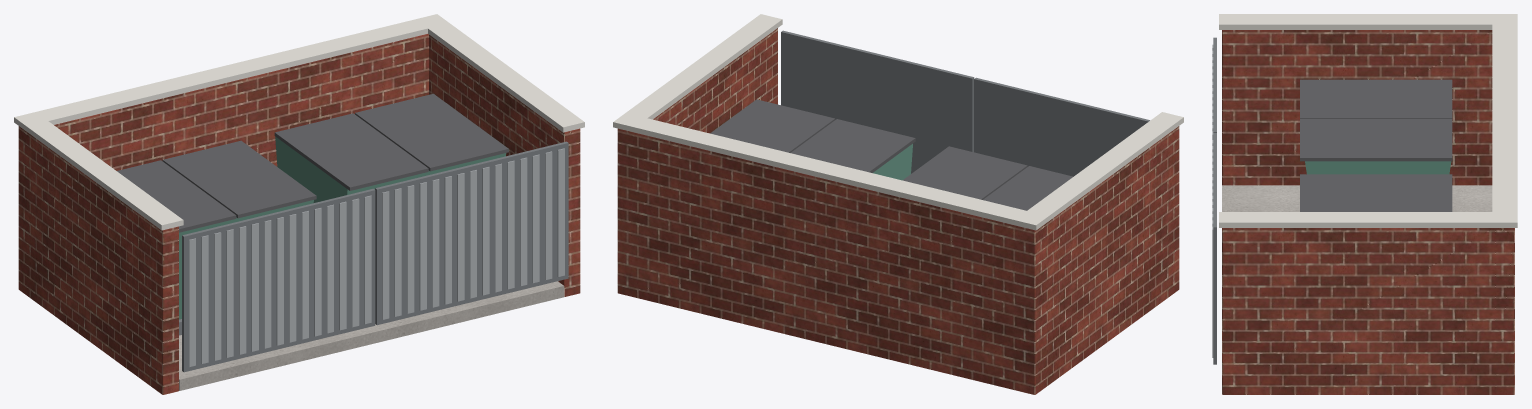
Rendered from dumpster_enc.glb.
3 renders of one model, left to right at view 1: azimuth 30°, elevation 25°; view 2: azimuth 150°, elevation 25°; view 3: azimuth 270°, elevation 25°, orthographic.
Visible parts, largest first — view 1: dumpster_enc_brick, dumpster_enc_steel, dumpster_enc_steel_d, dumpster_enc_dark, dumpster_enc_coping, dumpster_enc_concrete, dumpster_enc_dumpster; view 2: dumpster_enc_brick, dumpster_enc_steel_d, dumpster_enc_coping, dumpster_enc_dark, dumpster_enc_dumpster; view 3: dumpster_enc_brick, dumpster_enc_dark, dumpster_enc_coping, dumpster_enc_concrete, dumpster_enc_dumpster, dumpster_enc_steel_d, dumpster_enc_steel.
Part boxes in pixels (x1,y1,x2,y2): dumpster_enc_brick: [18, 34, 580, 394]; dumpster_enc_steel: [189, 148, 564, 366]; dumpster_enc_steel_d: [179, 141, 568, 372]; dumpster_enc_dark: [117, 93, 508, 232]; dumpster_enc_coping: [14, 14, 584, 230]; dumpster_enc_concrete: [179, 281, 564, 390]; dumpster_enc_dumpster: [179, 136, 506, 319]; dumpster_enc_brick: [617, 28, 1179, 394]; dumpster_enc_steel_d: [781, 30, 1149, 176]; dumpster_enc_coping: [613, 14, 1183, 230]; dumpster_enc_dark: [710, 99, 1073, 210]; dumpster_enc_dumpster: [872, 144, 912, 180]; dumpster_enc_brick: [1222, 30, 1514, 394]; dumpster_enc_dark: [1300, 79, 1452, 211]; dumpster_enc_coping: [1219, 14, 1517, 227]; dumpster_enc_concrete: [1222, 185, 1492, 211]; dumpster_enc_dumpster: [1305, 161, 1451, 174]; dumpster_enc_steel_d: [1213, 37, 1216, 364]; dumpster_enc_steel: [1212, 44, 1213, 357].
Bounding box in the file's own units: 5.06 × 1.96 × 3.13.
7 materials, 2 textured.
